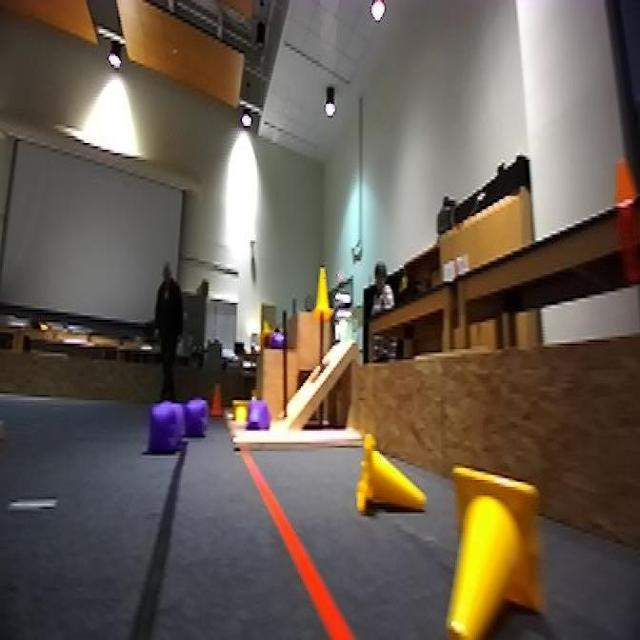frc_cone: (442, 466, 536, 640), (356, 427, 430, 521), (314, 265, 334, 315), (230, 402, 252, 424)
frc_cube: (148, 405, 184, 456), (186, 398, 208, 438), (246, 397, 264, 427), (270, 328, 286, 352)
